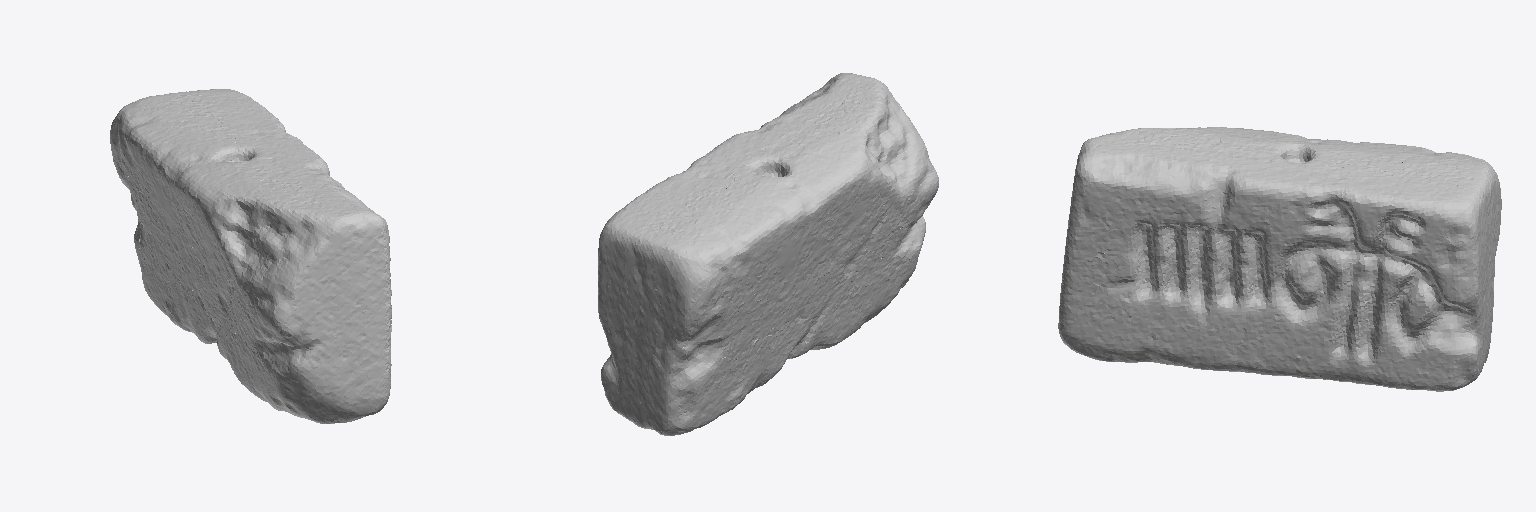
Rendered from 'Scan_mesh_w_seal4_l.obj.
The picture shows the model from 3 angles: view 1: azimuth 30°, elevation 25°; view 2: azimuth 150°, elevation 25°; view 3: azimuth 270°, elevation 25°; orthographic projection.
Visible parts, largest first — view 1: Scan_mesh_w_seal4; view 2: Scan_mesh_w_seal4; view 3: Scan_mesh_w_seal4.
Part boxes in pixels (x1,y1,x2,y2): Scan_mesh_w_seal4: (110, 89, 391, 423); Scan_mesh_w_seal4: (598, 73, 938, 435); Scan_mesh_w_seal4: (1058, 127, 1501, 391).
Size of the model in its own units: 15.14 by 20.58 by 37.39.